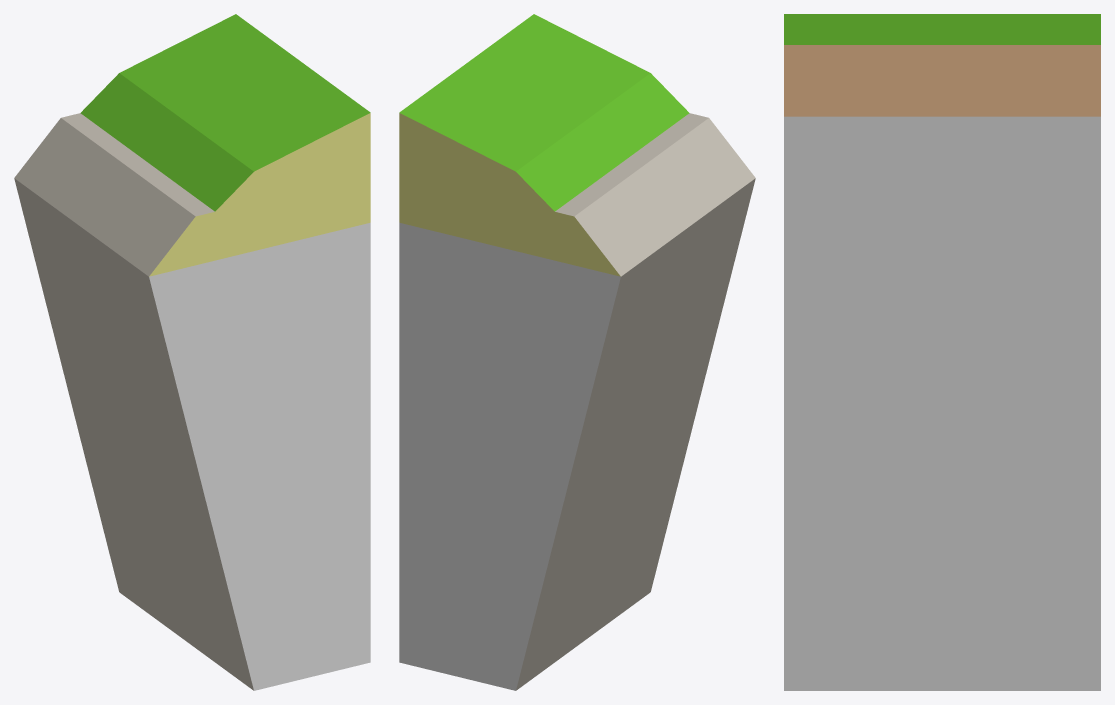
File: Basic_Straight_Top_1x1.glb
3 views of the same model, side by side, from view 1: azimuth 30°, elevation 25°; view 2: azimuth 150°, elevation 25°; view 3: azimuth 270°, elevation 25° (orthographic). The views are drawn at different scales.
Visible parts, largest first — view 1: Basic_Straight_Top_1x1; view 2: Basic_Straight_Top_1x1; view 3: Basic_Straight_Top_1x1.
Part boxes in pixels (bbox=[...]): Basic_Straight_Top_1x1: bbox=[14, 14, 370, 690]; Basic_Straight_Top_1x1: bbox=[399, 14, 755, 690]; Basic_Straight_Top_1x1: bbox=[784, 14, 1100, 690].
Size of the model in its own units: 95 by 225 by 100.
